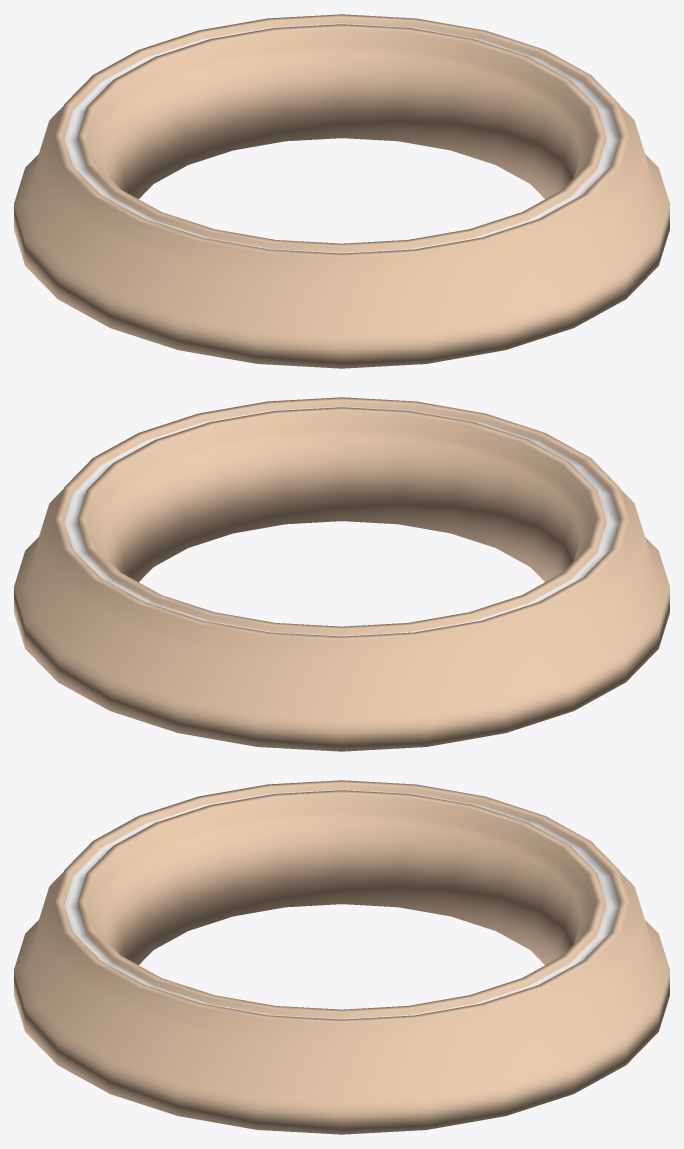
Rendered from item-stand-ring.fbx.
The picture shows the model from 3 angles, top to bottom: view 1: azimuth 30°, elevation 25°; view 2: azimuth 150°, elevation 25°; view 3: azimuth 270°, elevation 25°; orthographic projection.
Visible parts, largest first — view 1: Ring; view 2: Ring; view 3: Ring.
Boxes of the visible parts, x1,y1,x2,y2 form: Ring: (14,14,669,368); Ring: (14,397,669,751); Ring: (14,780,669,1134).
Size of the model in its own units: 491 by 77.84 by 491.
